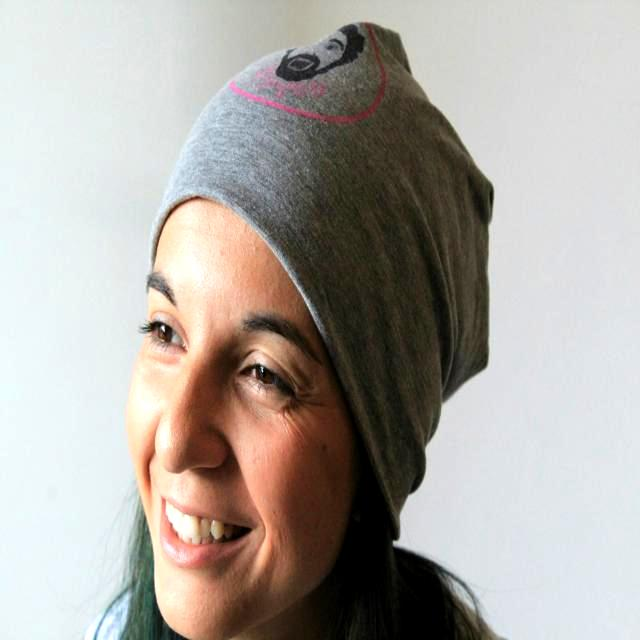no_hard_hat: (150, 22, 494, 536)
person: (88, 23, 499, 640)
